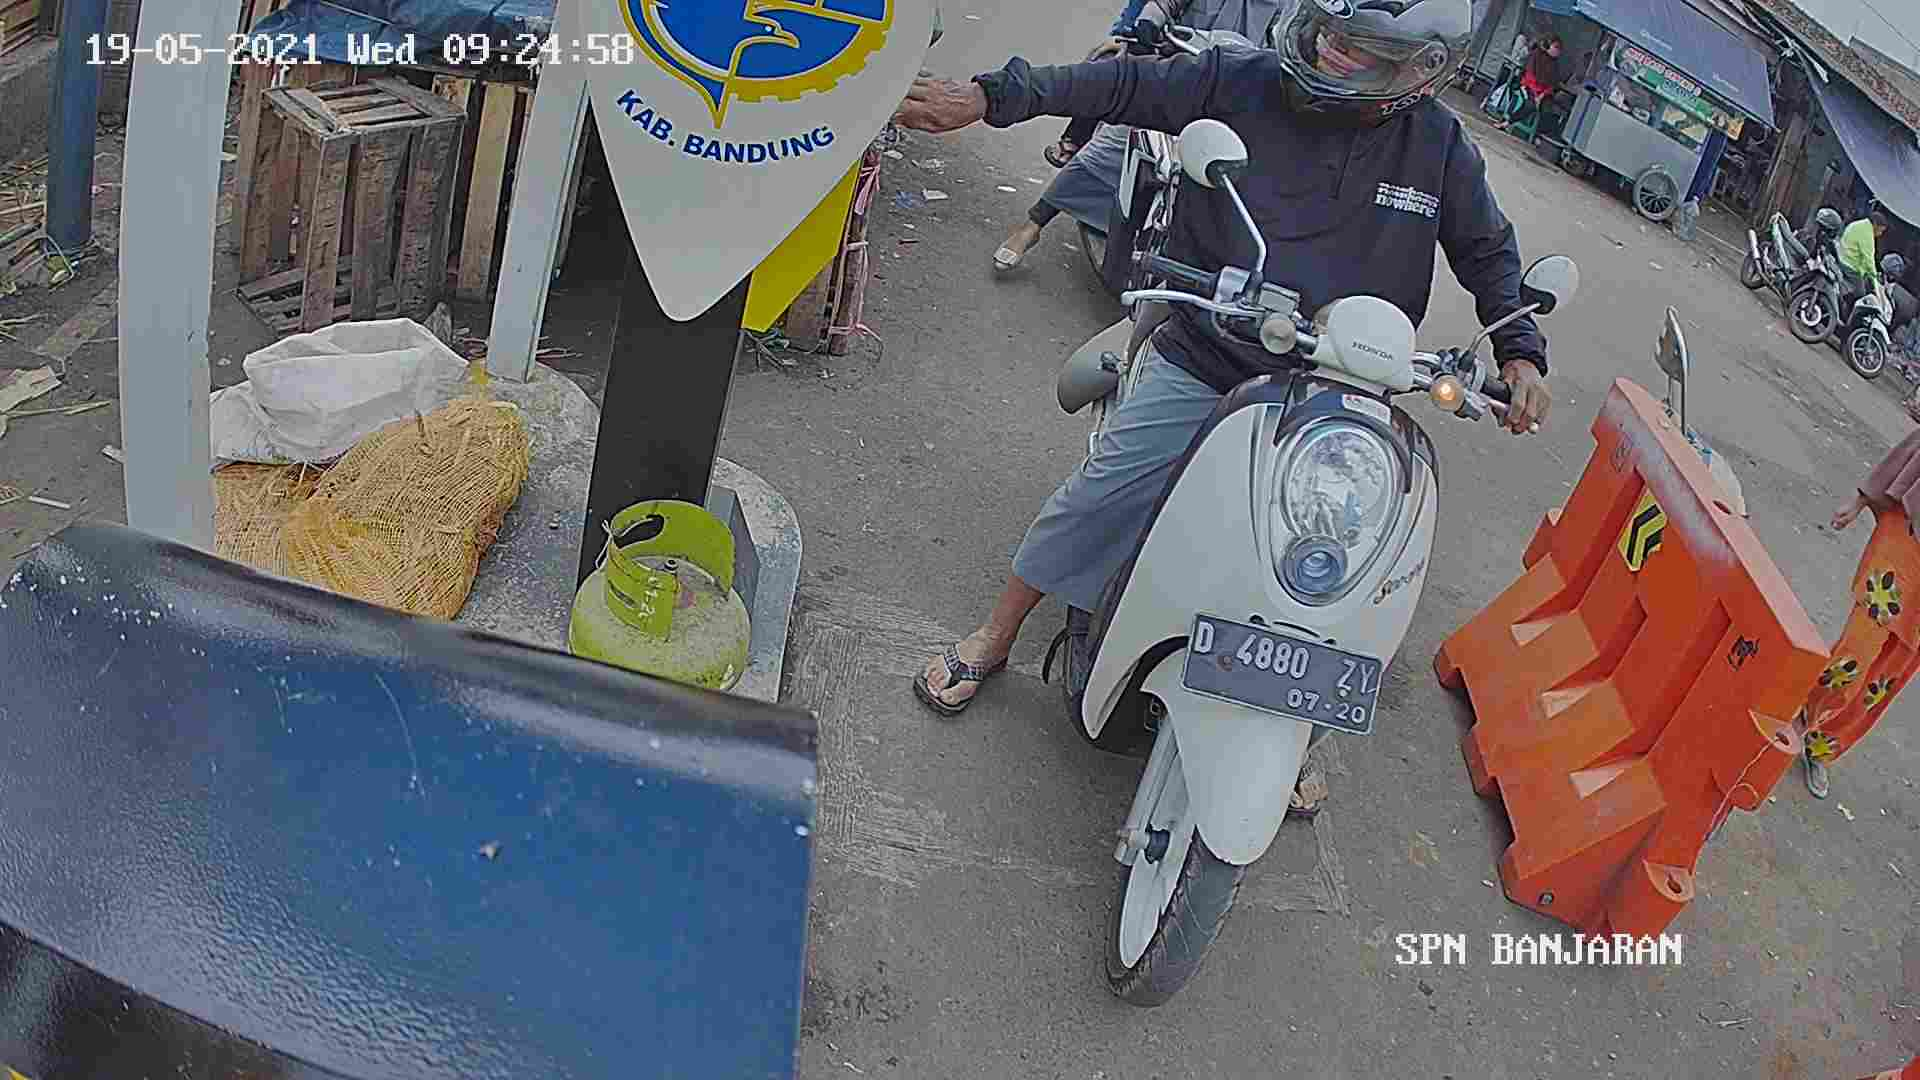motor: (1051, 251, 1449, 1015)
